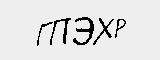Г: (34, 21, 50, 46)
П: (49, 14, 69, 47)
Р: (114, 17, 129, 40)
Х: (95, 15, 114, 44)
Э: (72, 14, 95, 45)
